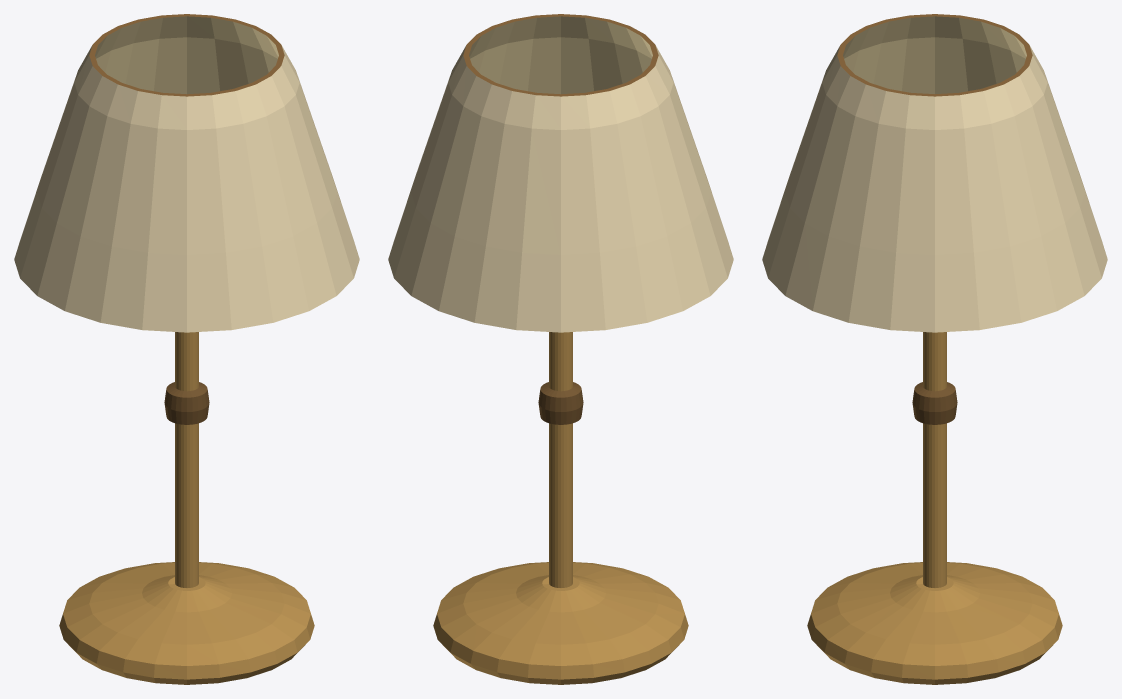
Rendered from floor_lamp.obj.
3 renders of one model, left to right at view 1: azimuth 30°, elevation 25°; view 2: azimuth 150°, elevation 25°; view 3: azimuth 270°, elevation 25°, orthographic.
Visible parts, largest first — view 1: shade_out, base, shade_in, stem, rim_top, knob; view 2: shade_out, base, shade_in, stem, rim_top, knob; view 3: shade_out, base, shade_in, stem, rim_top, knob.
Boxes of the visible parts, x1,y1,x2,y2 form: shade_out: (14, 45, 359, 332); base: (59, 562, 314, 684); shade_in: (95, 16, 278, 94); stem: (175, 332, 198, 587); rim_top: (89, 14, 284, 96); knob: (164, 382, 209, 424); shade_out: (388, 45, 733, 332); base: (433, 562, 688, 684); shade_in: (469, 16, 652, 94); stem: (549, 332, 572, 587); rim_top: (463, 14, 658, 96); knob: (538, 382, 583, 424); shade_out: (762, 45, 1107, 332); base: (807, 562, 1062, 684); shade_in: (843, 16, 1026, 93); stem: (923, 332, 946, 587); rim_top: (837, 14, 1032, 96); knob: (912, 382, 957, 424).
Size of the model in its own units: 0.92 by 1.7 by 0.92.
